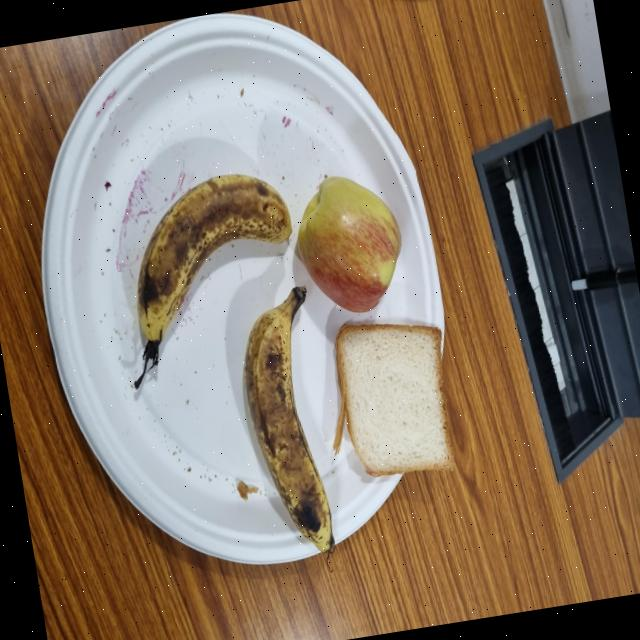apple: (393, 172, 494, 315)
banana: (363, 0, 489, 169), (207, 95, 403, 198)
